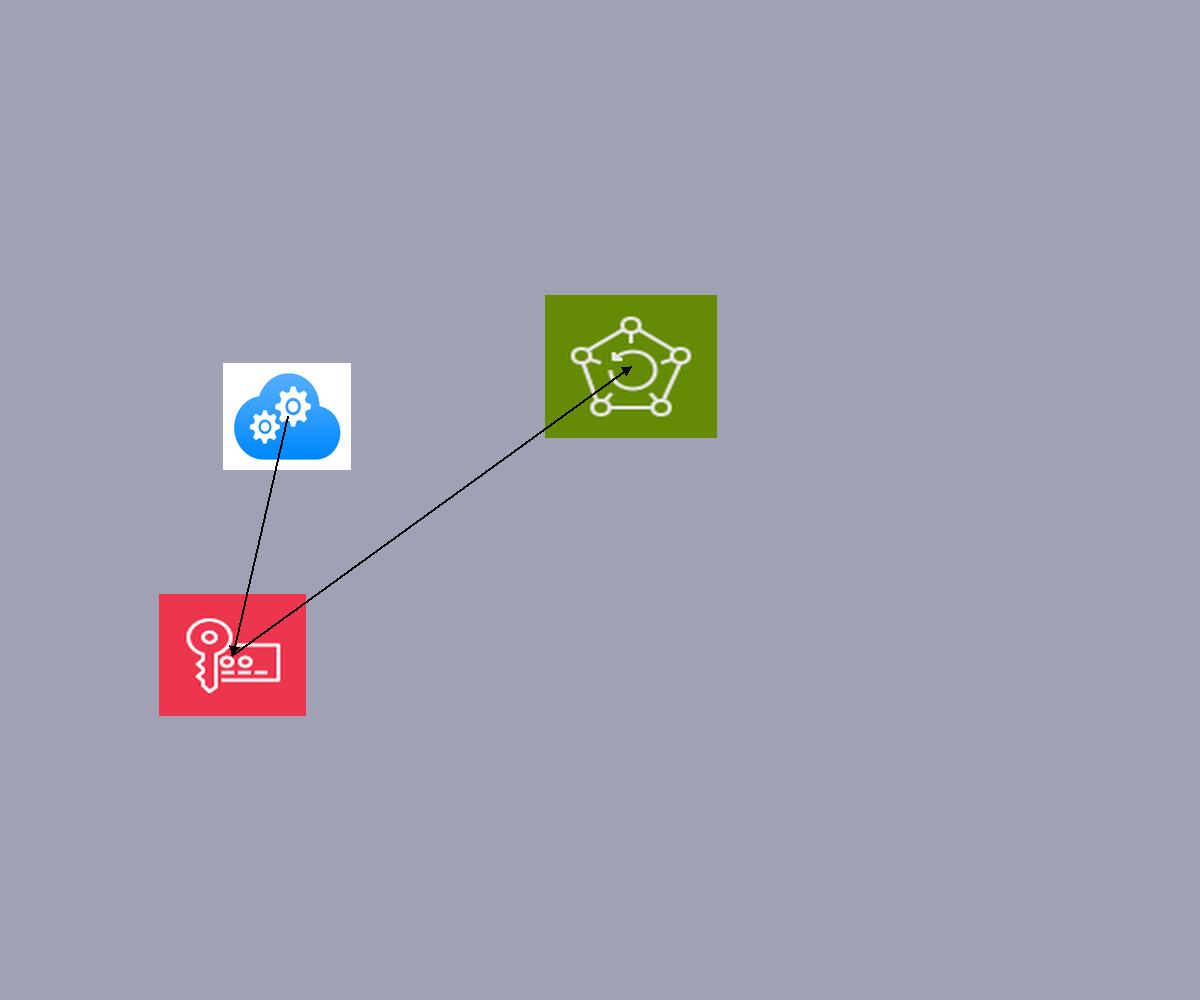AWS-Backup: (545, 295, 717, 438)
AWS-Key-Management-Service: (159, 594, 306, 716)
Azure_cloud_services: (223, 363, 351, 470)
